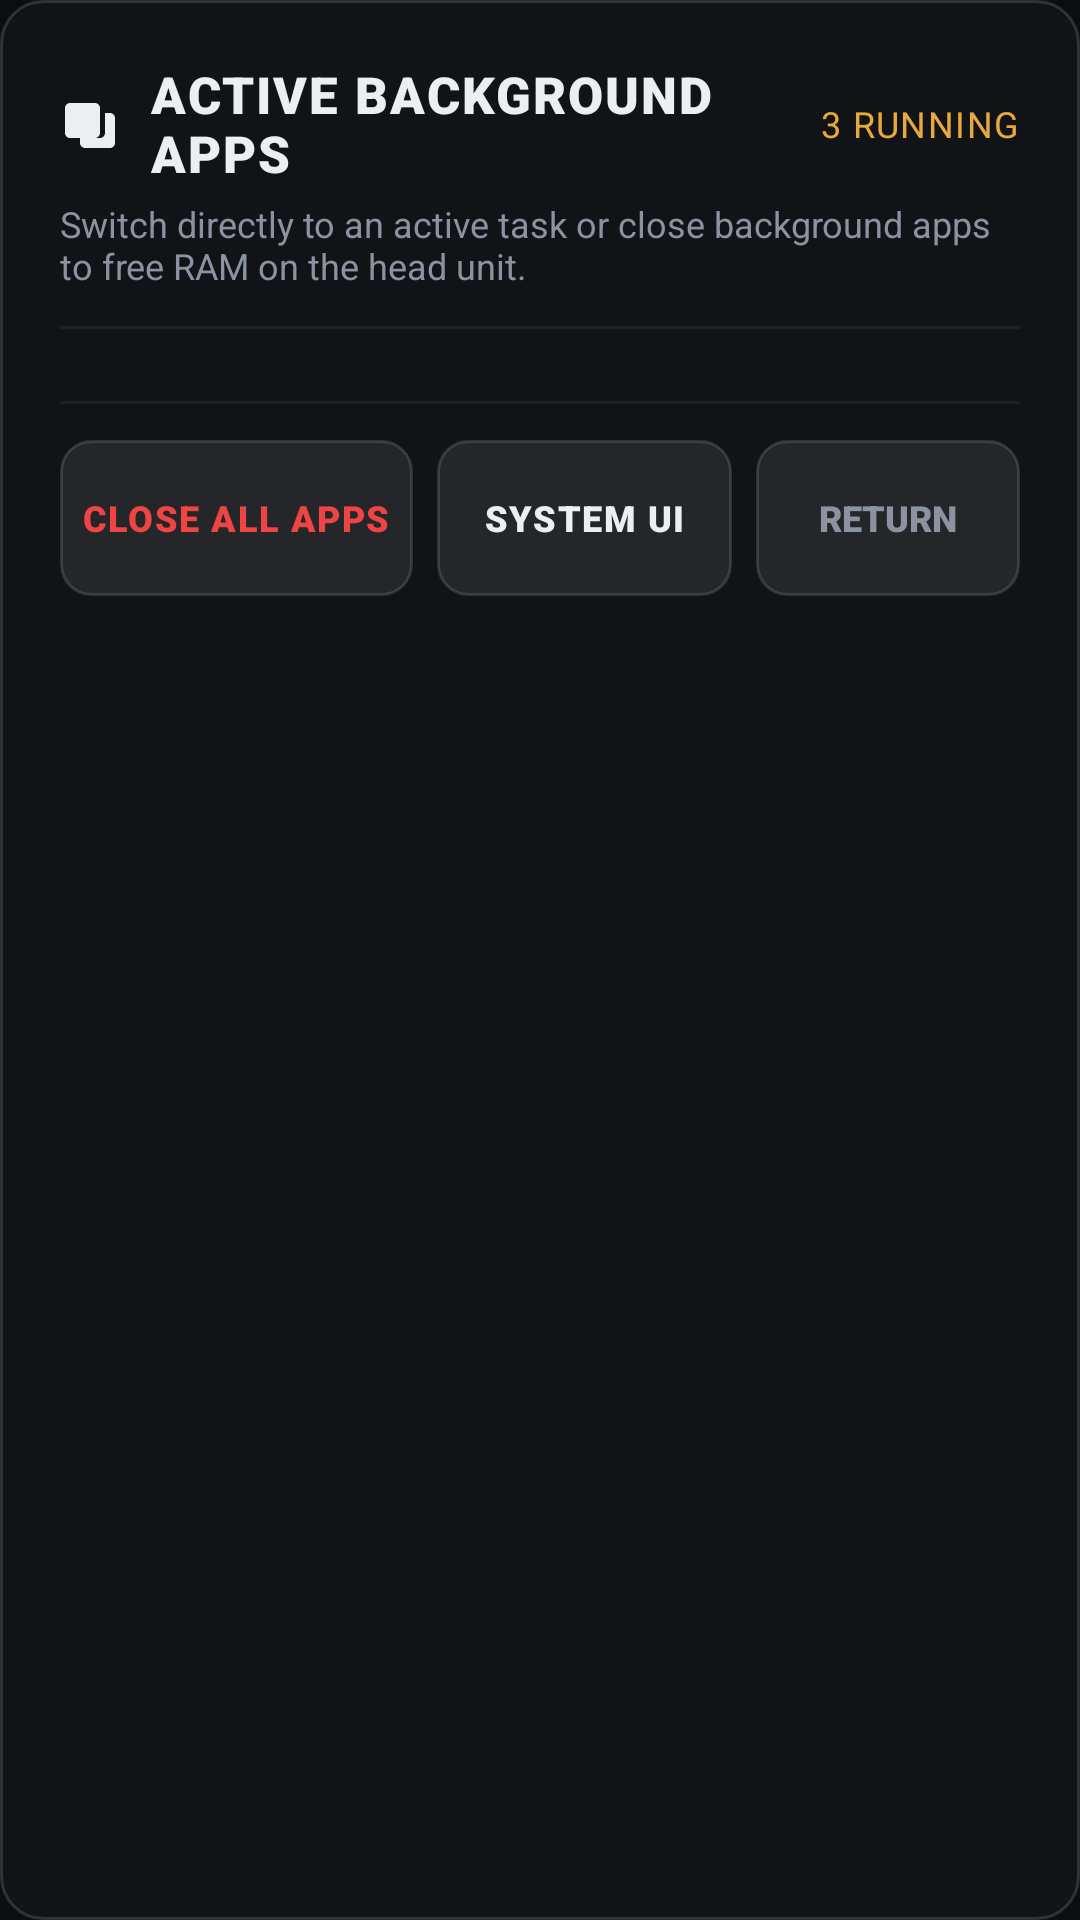

Icons on this 1080 x 1920 Android screen, each with its box as (x1, y1, x2, y2):
Task Switcher: (65, 103, 115, 148)
